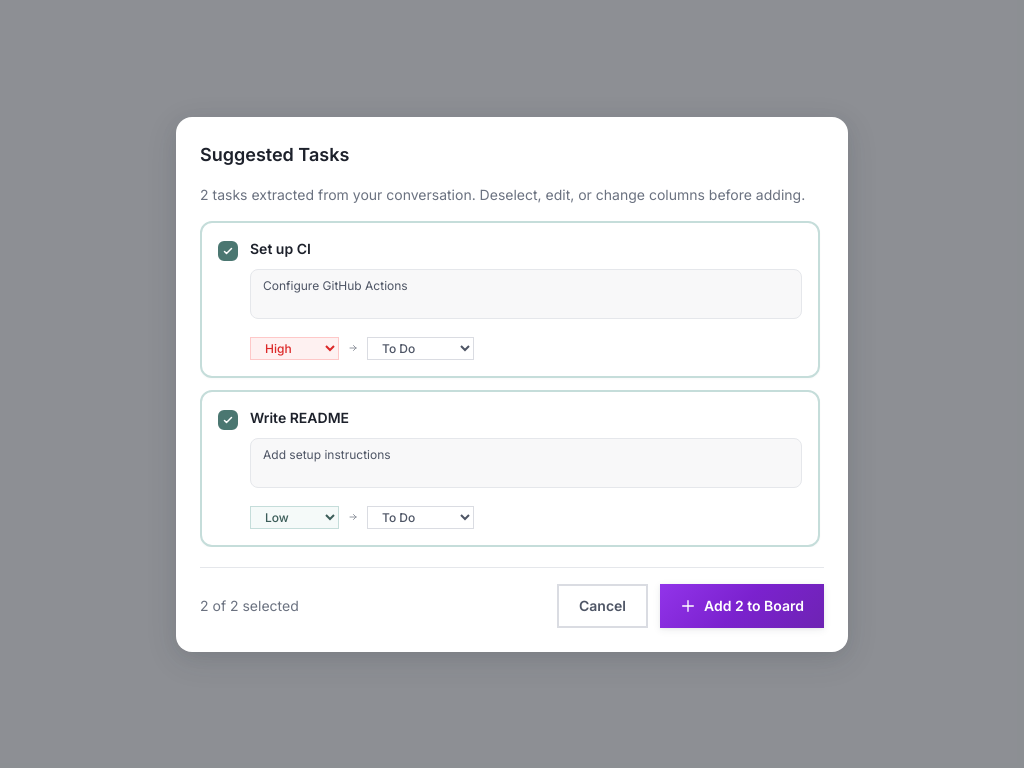
Scenario: AITaskModal › disables Add to Board when no tasks are selected
Click the 1st checkbox at (228, 250), box [218,240,238,260]
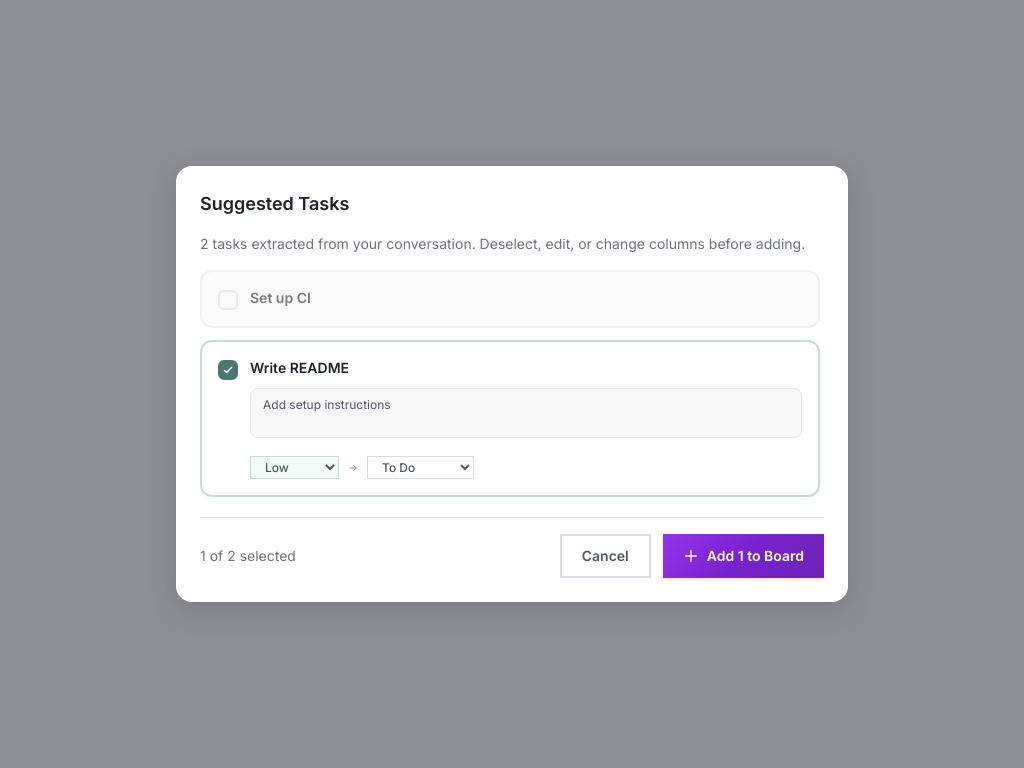
Click the 2nd checkbox at (228, 370), box [218,360,238,380]
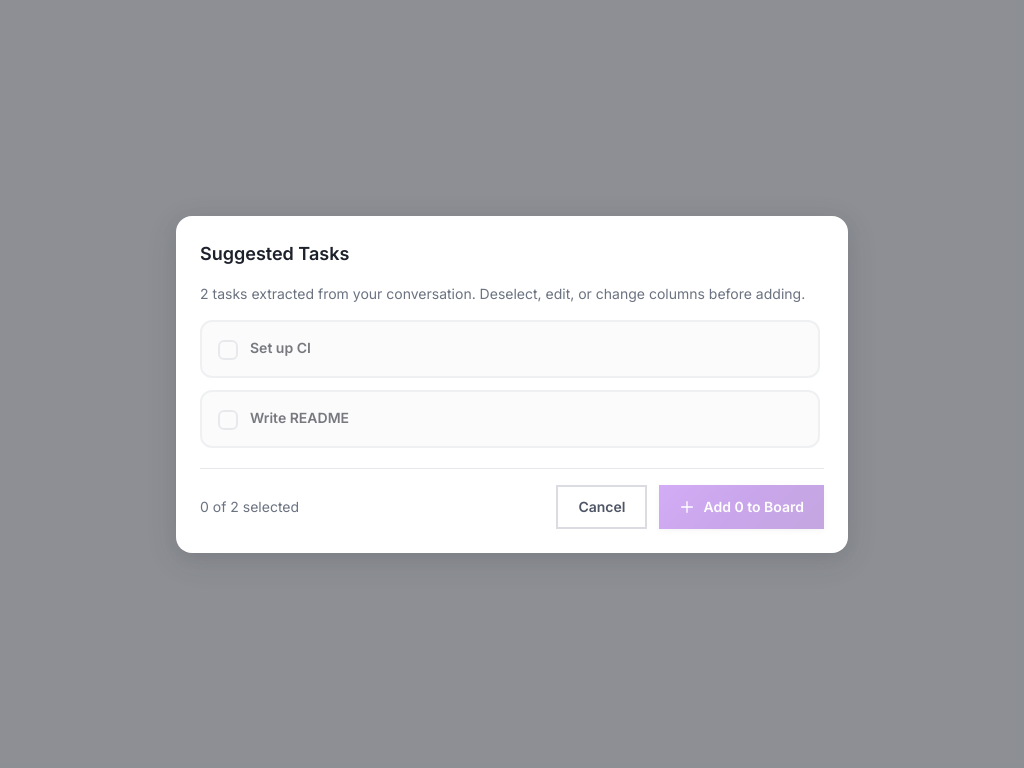
expect the button "Add 0 to Board" is disabled: met, box [660,484,824,528]
